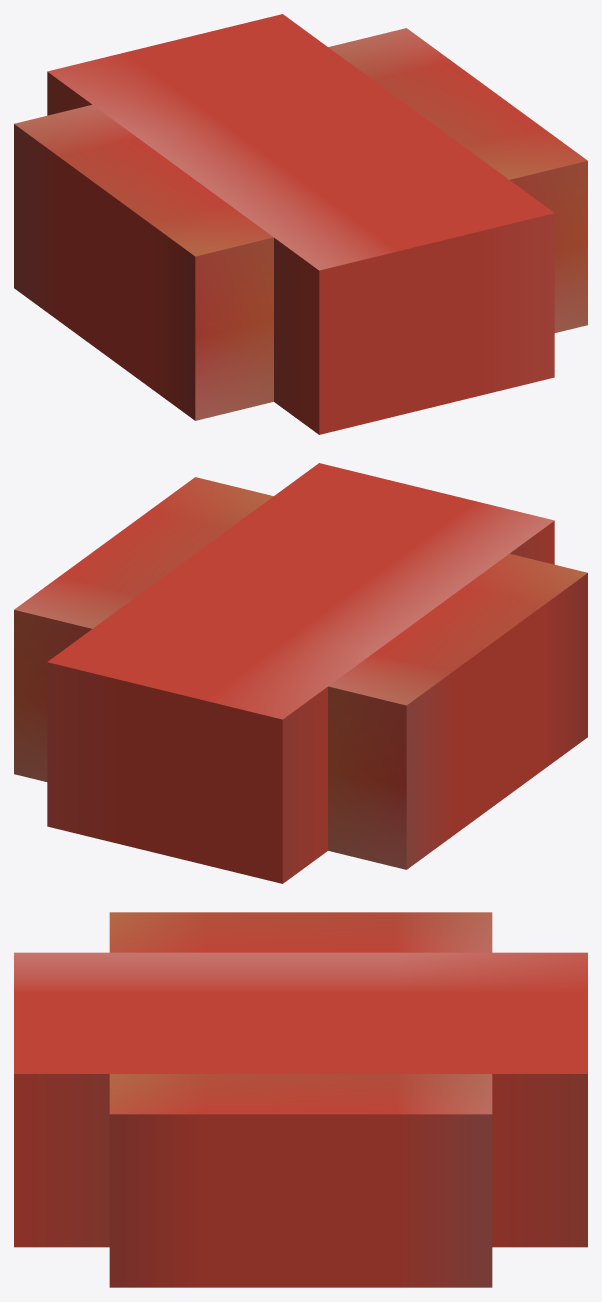
Rendered from PillowSmallRed_00.fbx.
3 renders of one model, top to bottom at view 1: azimuth 30°, elevation 25°; view 2: azimuth 150°, elevation 25°; view 3: azimuth 270°, elevation 25°, orthographic. The views are drawn at different scales.
Visible parts, largest first — view 1: PillowSmallRed_00; view 2: PillowSmallRed_00; view 3: PillowSmallRed_00.
Part boxes in pixels (x1=…): PillowSmallRed_00: x1=14, y1=14, x2=587, y2=434; PillowSmallRed_00: x1=14, y1=463, x2=587, y2=883; PillowSmallRed_00: x1=14, y1=912, x2=587, y2=1287.
Bounding box in the file's own units: 25 × 30 × 10.
Materials: 1 (1 with a texture image).
